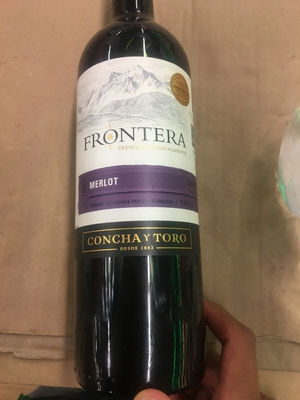frontera merlot: (77, 10, 205, 398)
